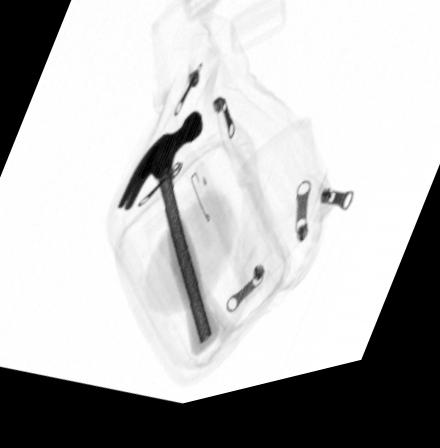Hammer: (115, 119, 218, 365)
